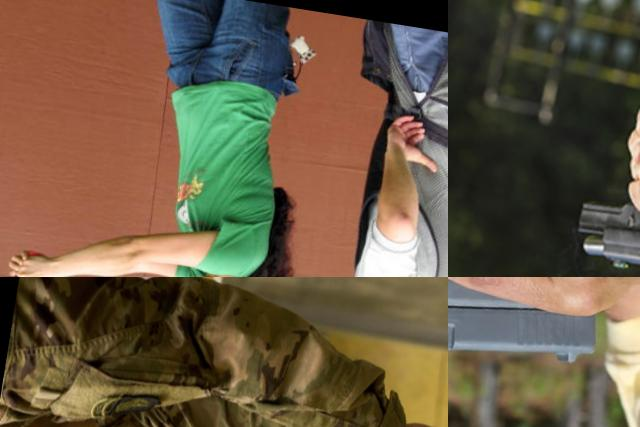handgun: (448, 277, 640, 427), (567, 136, 640, 277), (0, 235, 50, 277)
